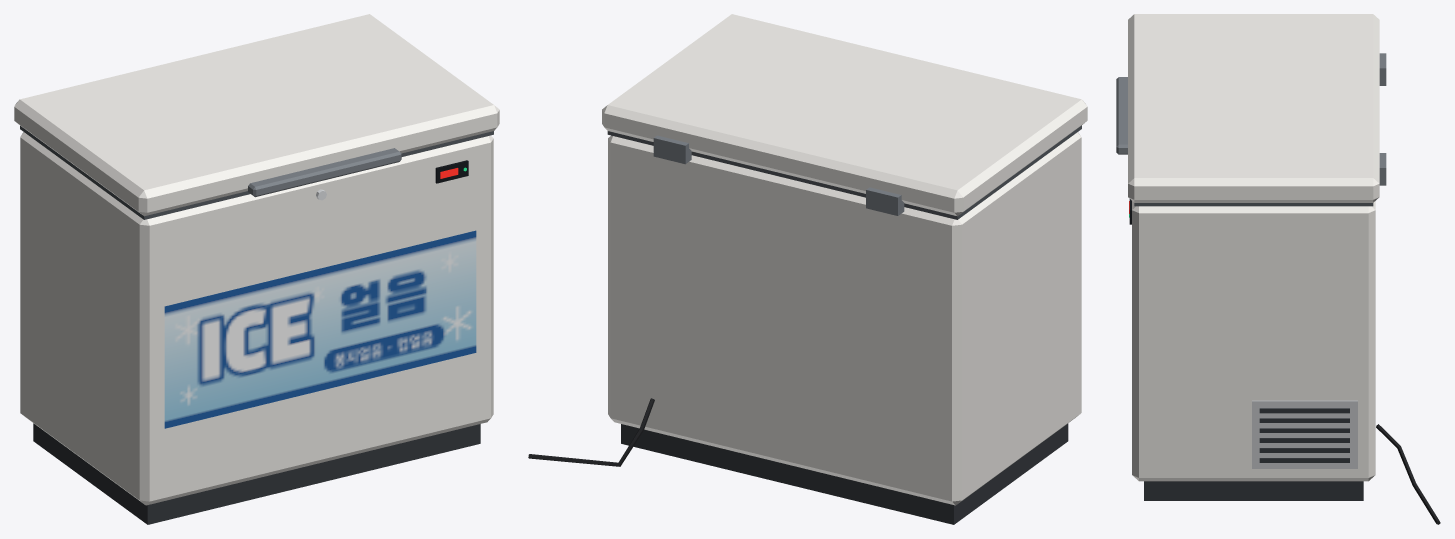
File: SC_Ter_Ice_Freezer_Outdoor.gltf
3 renders of one model, left to right at view 1: azimuth 30°, elevation 25°; view 2: azimuth 150°, elevation 25°; view 3: azimuth 270°, elevation 25°, orthographic. The views are drawn at different scales.
Visible parts, largest first — view 1: SC_Ter_Ice_Freezer_Outdoor; view 2: SC_Ter_Ice_Freezer_Outdoor; view 3: SC_Ter_Ice_Freezer_Outdoor.
Boxes of the visible parts, <box> form: SC_Ter_Ice_Freezer_Outdoor: <box>14,14,499,524</box>; SC_Ter_Ice_Freezer_Outdoor: <box>528,14,1087,524</box>; SC_Ter_Ice_Freezer_Outdoor: <box>1116,14,1440,524</box>.
Bounding box in the file's own units: 1.13 × 0.918 × 0.8256.
Materials: 3 (3 with a texture image).
